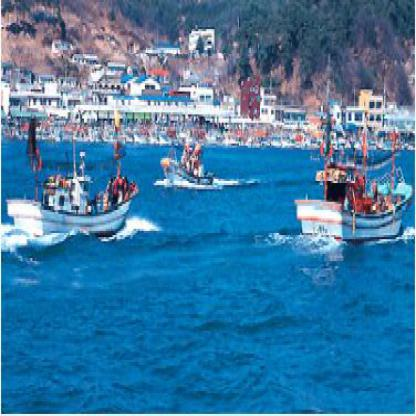fish-b: (0, 150, 144, 250), (292, 137, 415, 254)
